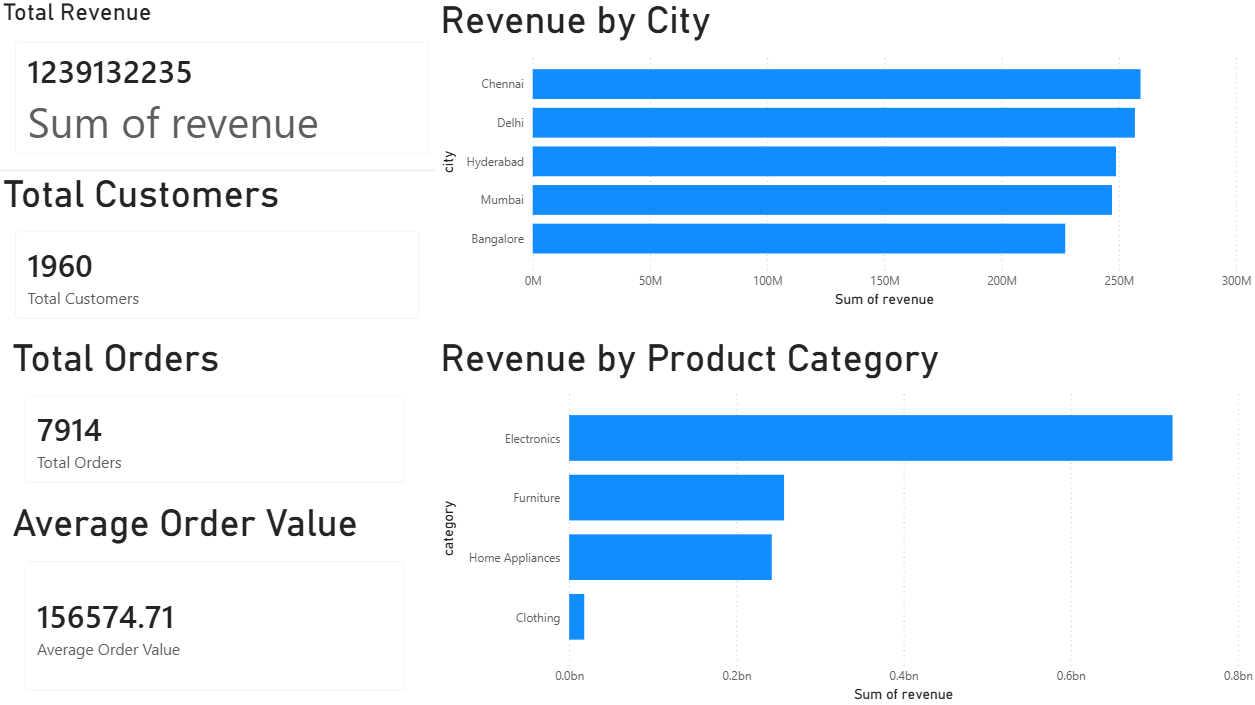

The dashboard page shown, as its layout file describes it:
{"tool":"powerbi","page":{"name":"Executive Dashboard","canvas":[1280,720],"ordinal":0},"visuals":[{"type":"cardVisual","title":"Total Revenue","fields":{"Data":["Sum(final_cleaned_data.revenue)"]},"box":[0,0,455.3,175.6],"z":0},{"type":"cardVisual","title":"Total Orders","fields":{"Data":["final_cleaned_data.Total Orders"]},"box":[10.2,343,420.6,167.4],"z":1000},{"type":"cardVisual","title":"Total Customers","fields":{"Data":["final_cleaned_data.Total Customers"]},"box":[0,175.6,445.1,167.4],"z":2000},{"type":"cardVisual","title":"Average Order Value","fields":{"Data":["final_cleaned_data.Average Order Value"]},"box":[10.2,510.5,420.6,210.3],"z":3000},{"type":"clusteredBarChart","title":"Revenue by Product Category","fields":{"Category":["final_cleaned_data.category"],"Y":["Sum(final_cleaned_data.revenue)"]},"box":[445.1,343,835.1,377.7],"z":4000},{"type":"clusteredBarChart","title":"Revenue by City","fields":{"Category":["final_cleaned_data.city"],"Y":["Sum(final_cleaned_data.revenue)"]},"box":[444.4,0,834.1,318.8],"z":5000}]}

Visuals, with their boxes in screenshot pixels (x1, y1, x2, y2), scaled from the page's 1280x720 canvas onto the 1255x705 screenshot:
"Total Revenue" cardVisual: left=0, top=0, right=446, bottom=172
"Total Orders" cardVisual: left=10, top=336, right=422, bottom=500
"Total Customers" cardVisual: left=0, top=172, right=436, bottom=336
"Average Order Value" cardVisual: left=10, top=500, right=422, bottom=704
"Revenue by Product Category" clusteredBarChart: left=436, top=336, right=1254, bottom=704
"Revenue by City" clusteredBarChart: left=436, top=0, right=1254, bottom=312
